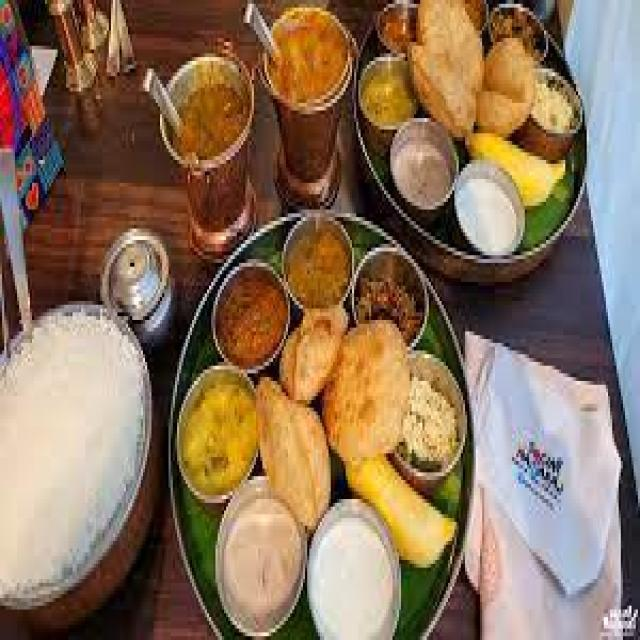curd: (303, 496, 408, 640)
dal: (3, 308, 150, 599)
papad: (328, 331, 416, 474)
sambar-rasam: (384, 123, 463, 212)
sweet: (384, 121, 461, 216), (407, 354, 469, 470), (352, 53, 420, 142)
veg-fry: (210, 256, 290, 373), (279, 214, 359, 313)
